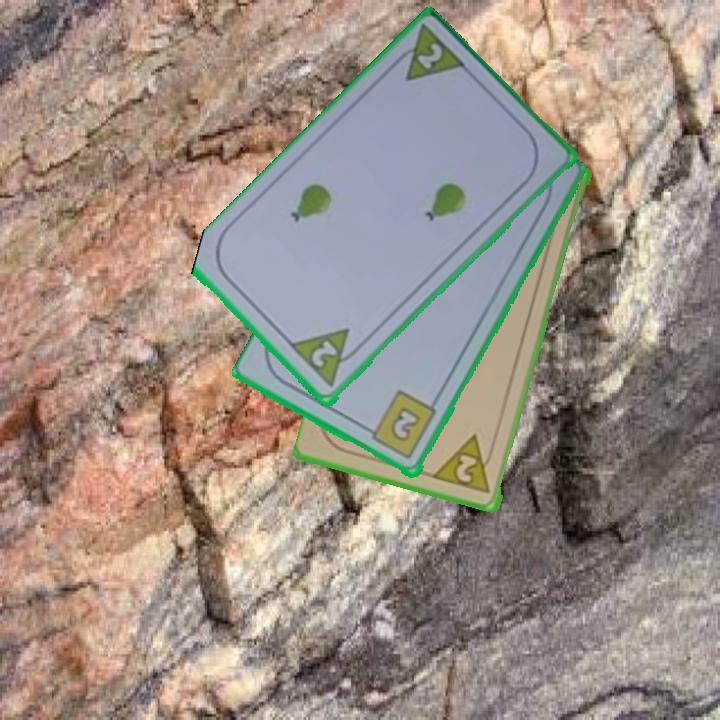2b: (361, 387, 440, 463)
2p: (386, 22, 470, 86), (432, 432, 497, 497), (307, 337, 340, 371)
